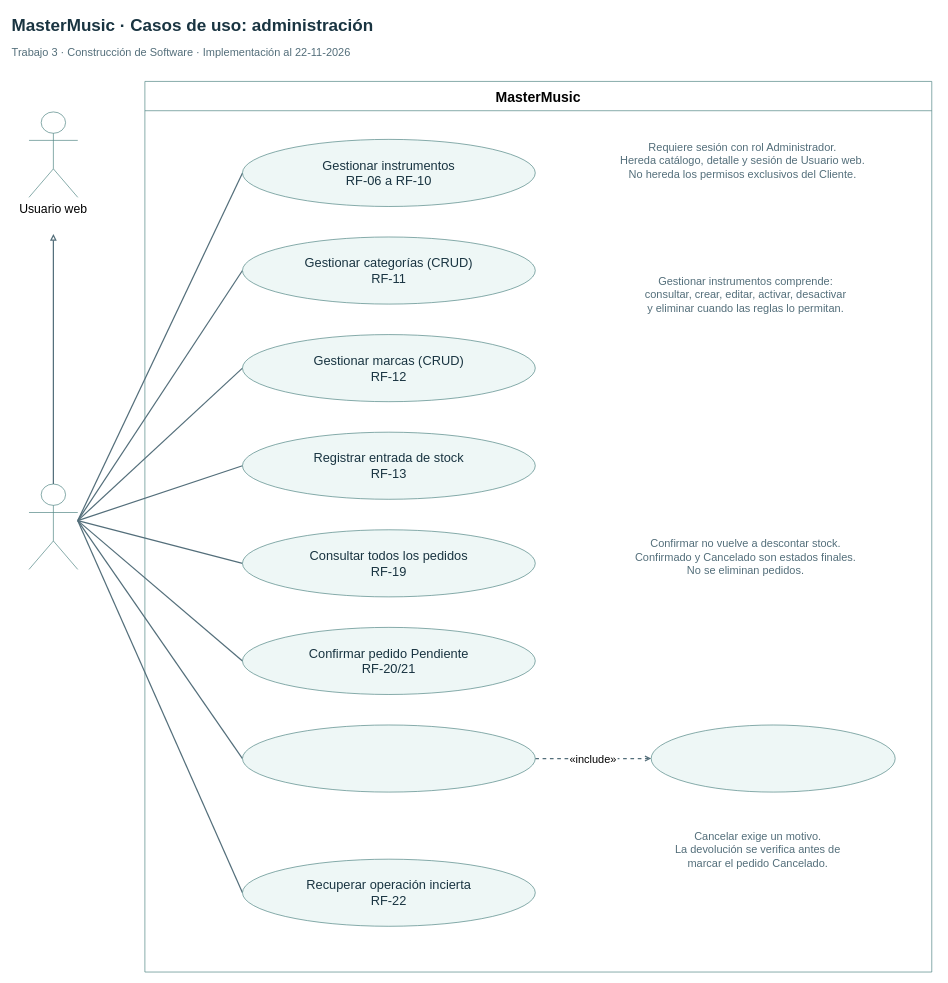
The diagram is 948 pixels wide and 983 high, and some of its shapes have lost their labels. The shapes that lost their labels are listed below. From the top down, each one's centre as x and y in pixels, then its label:
At pixel 53 526: "Administrador".
At pixel 388 758: "Cancelar pedido Pendiente RF-20/21".
At pixel 773 758: "Devolver stock una sola vez RF-21".
